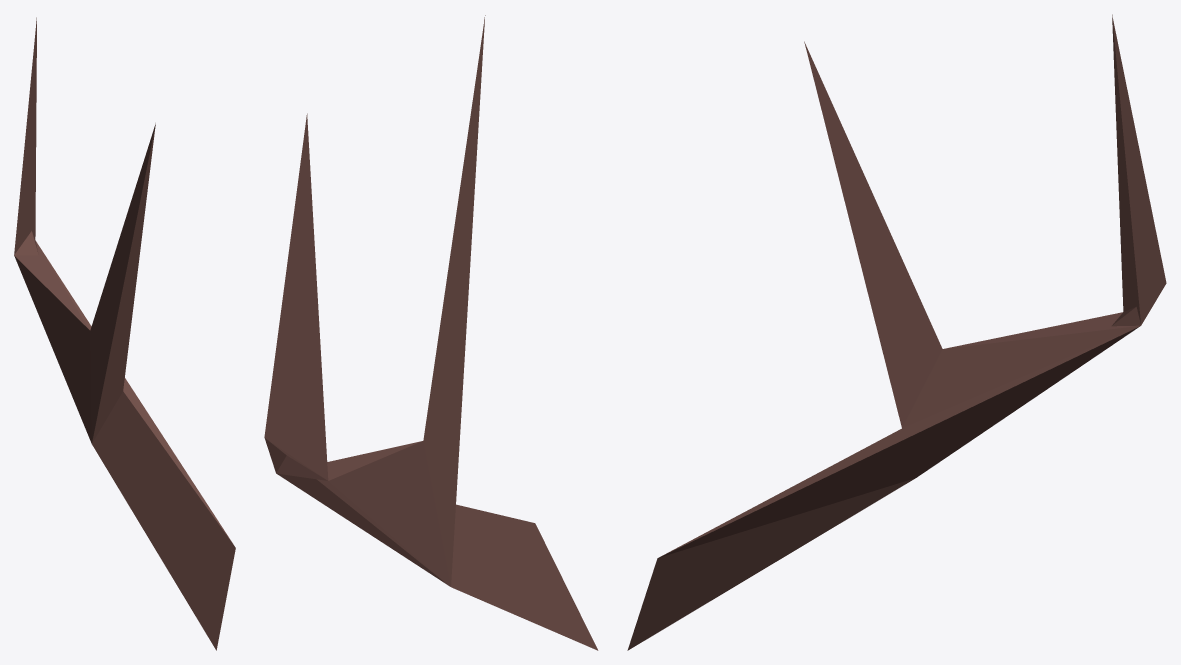
File: Willow_Dead_3.lod3.glb
3 renders of one model, left to right at view 1: azimuth 30°, elevation 25°; view 2: azimuth 150°, elevation 25°; view 3: azimuth 270°, elevation 25°, orthographic. The views are drawn at different scales.
Visible parts, largest first — view 1: Willow_Dead_3; view 2: Willow_Dead_3; view 3: Willow_Dead_3.
Part boxes in pixels (x1=…): Willow_Dead_3: x1=14, y1=17, x2=235, y2=650; Willow_Dead_3: x1=264, y1=15, x2=598, y2=650; Willow_Dead_3: x1=627, y1=14, x2=1166, y2=650.
Size of the model in its own units: 0.1633 by 1.78 by 1.35.
